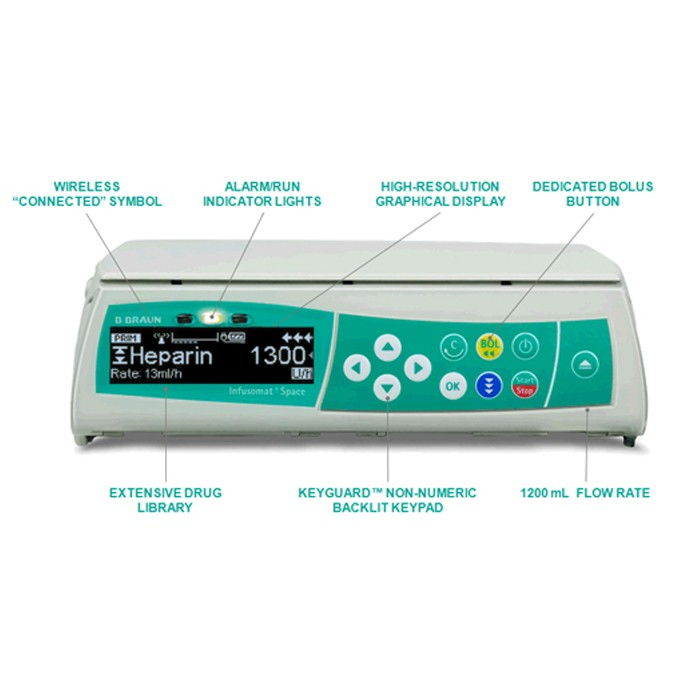BBraun Infusomat Space: (60, 236, 654, 460)
